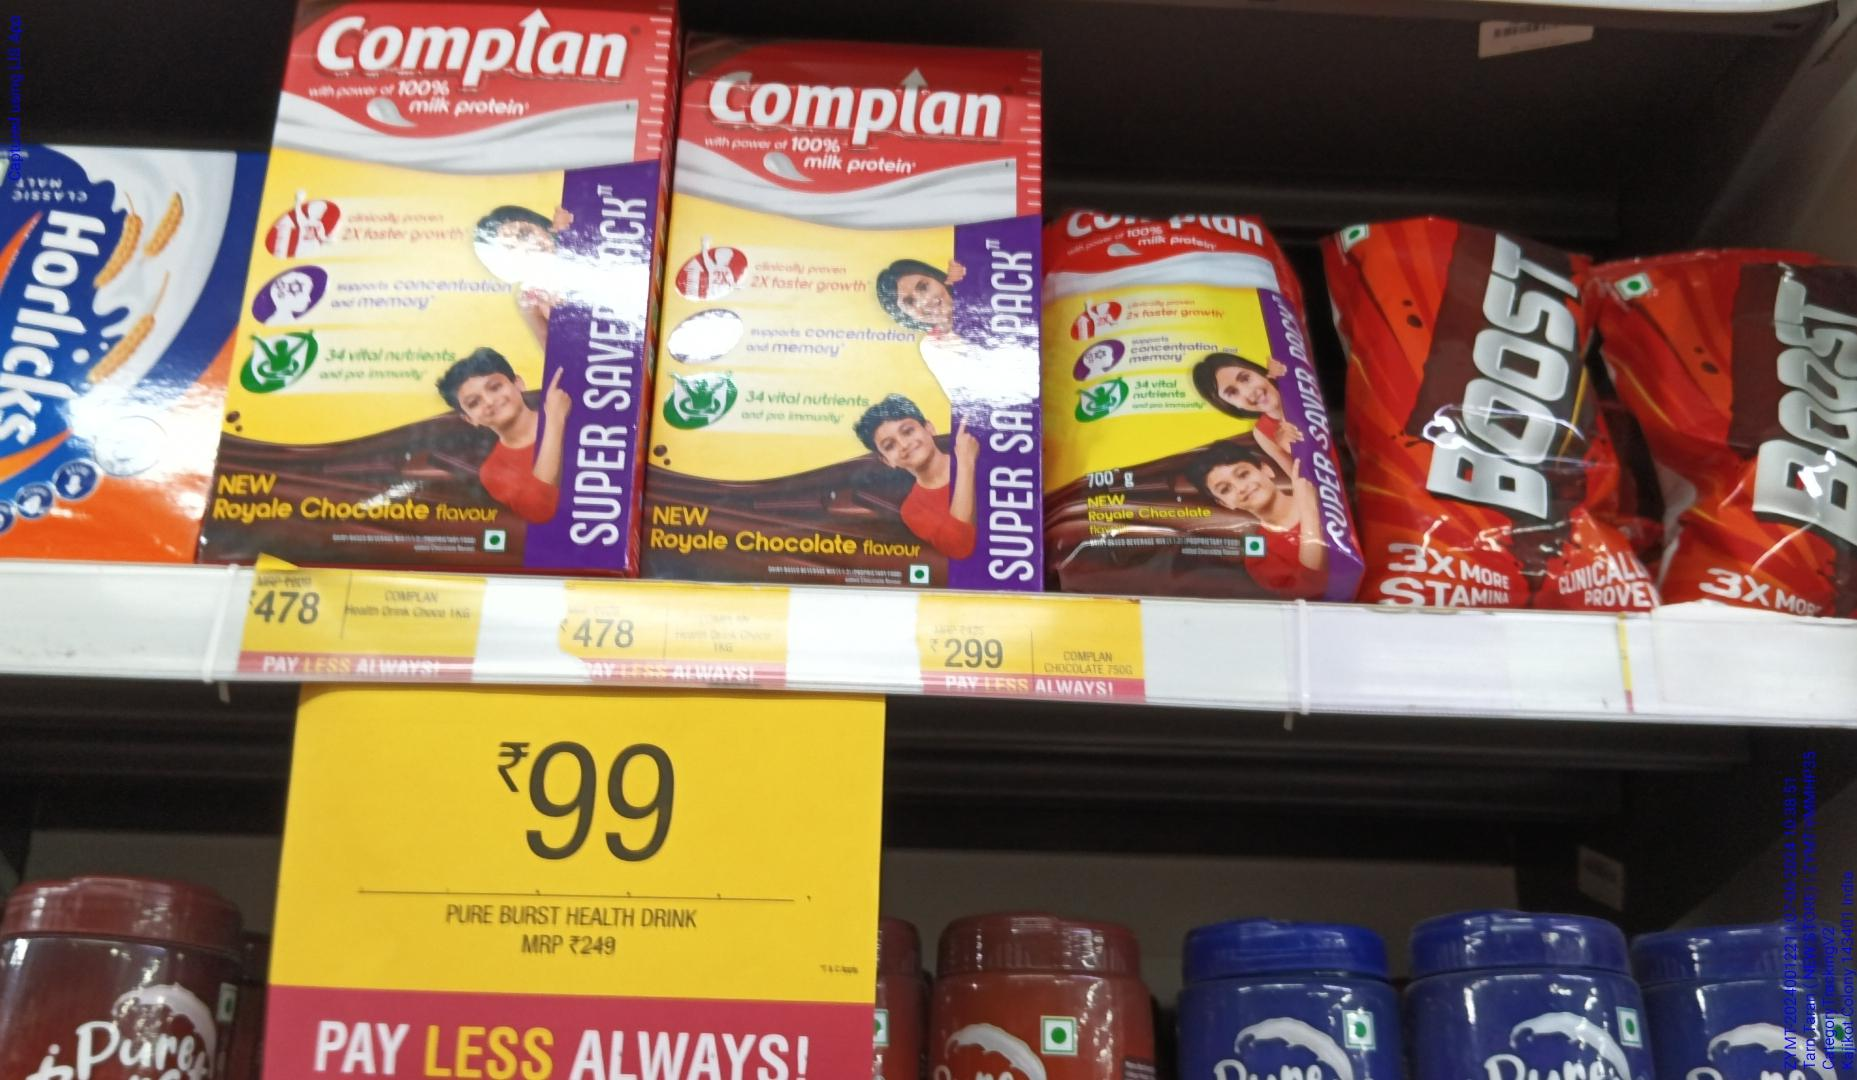COMPLAN_CHOCOLATE_1_KG_PACK: (258, 8, 630, 573), (668, 32, 1053, 579)
COMPLAN_RC_POUCH_700_GMS_12: (1068, 190, 1349, 612)
